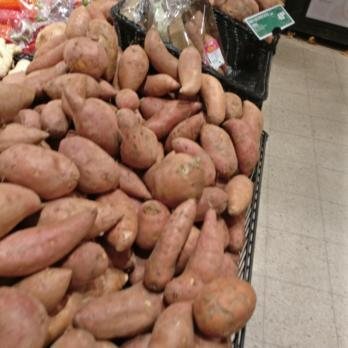Sweet potato: (2, 76, 219, 348), (177, 101, 248, 262), (32, 7, 129, 75), (136, 26, 203, 94)
